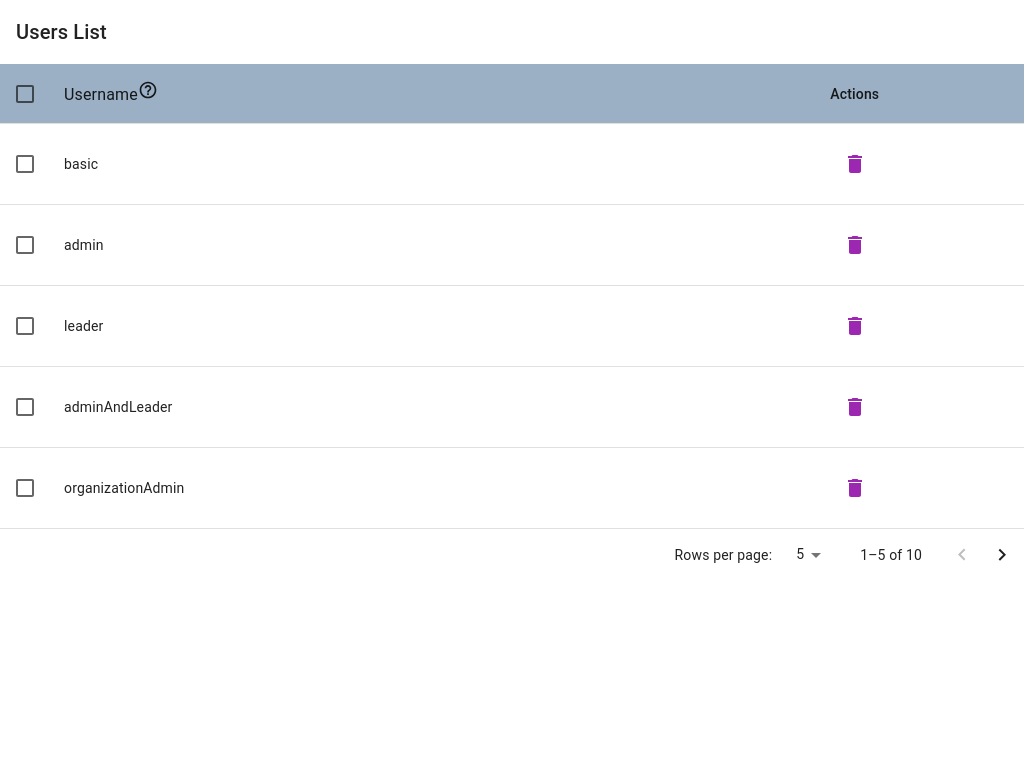
Test: ManageUsersTable › UsersTable checkbox logic › should deselect all users as if select all is clicked twice
Click the checkbox named "select all users".
click(25, 94)  # box x1=13 y1=82 x2=37 y2=106
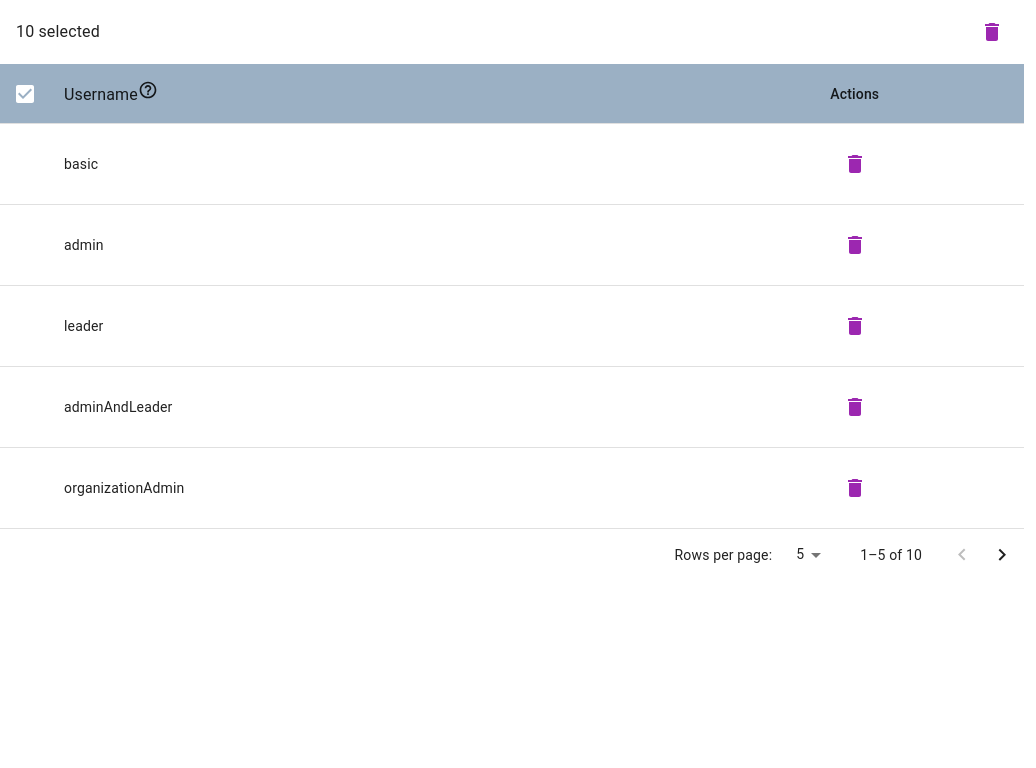
Click the checkbox named "select all users".
click(25, 94)  # box x1=13 y1=82 x2=37 y2=106
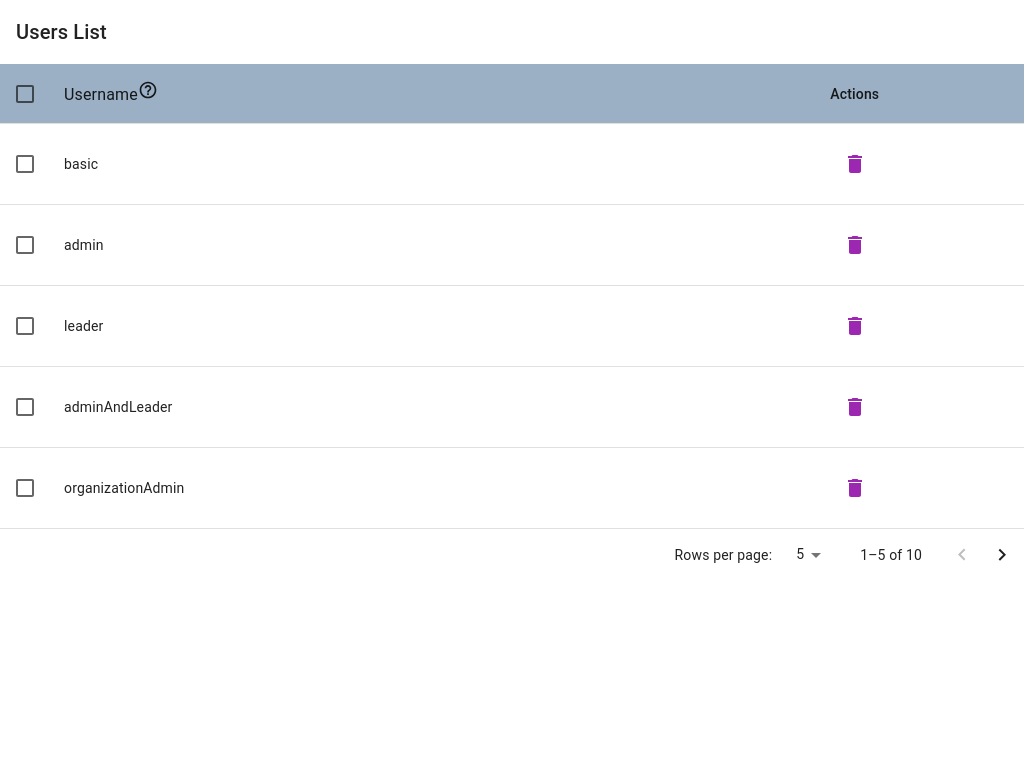
Check: the checkbox named "select all users" is not checked, box x1=13 y1=82 x2=37 y2=106
Check: the checkbox named "User Table Row" is not checked, box x1=0 y1=124 x2=1024 y2=204
